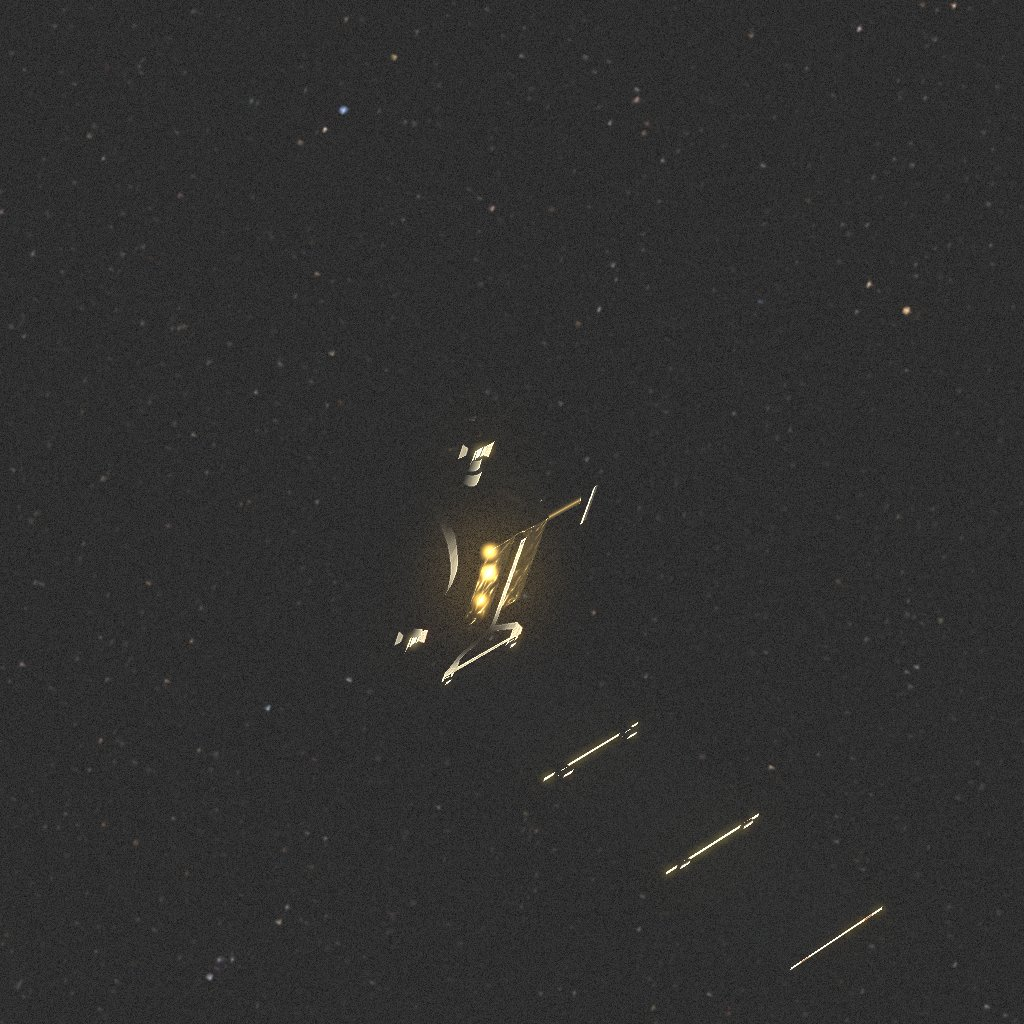earth_observation_sat_1: (320, 413, 882, 970)
